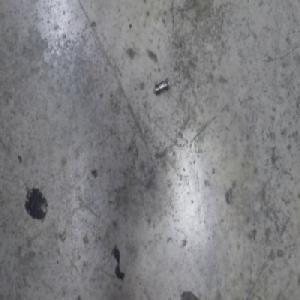Bolt: (154, 75, 170, 94)
